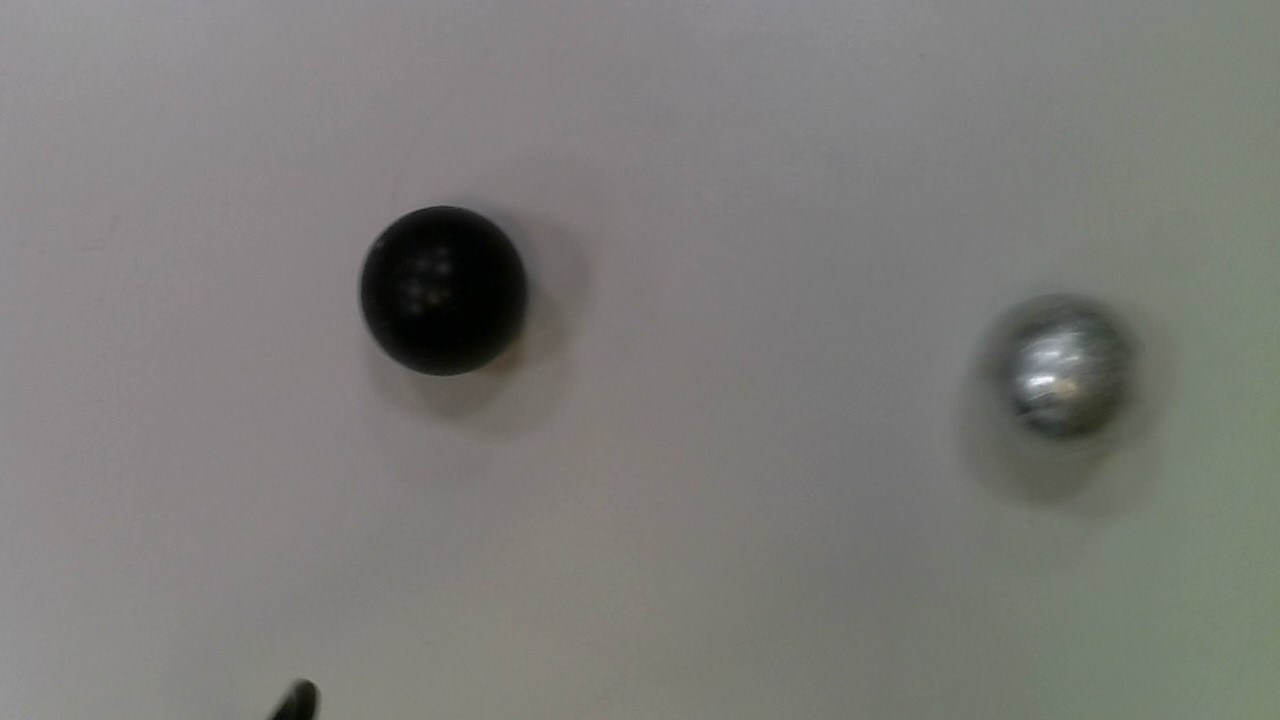black_ball: (356, 205, 532, 377)
silver_ball: (969, 298, 1143, 468)
